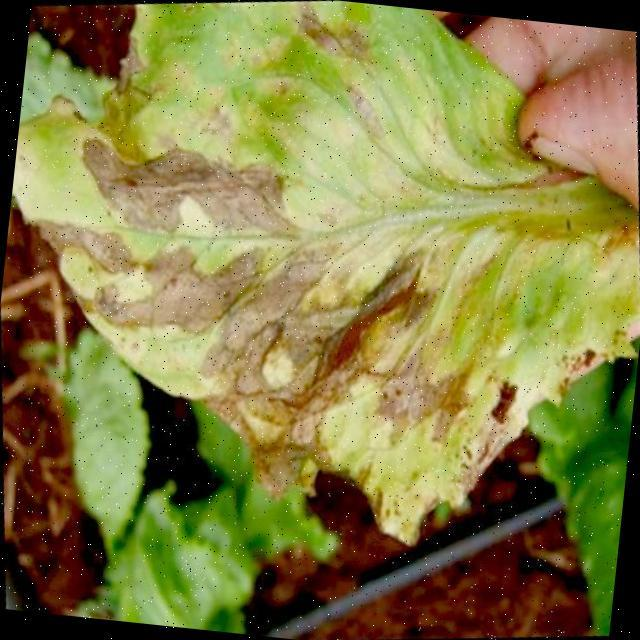Bacterial: (171, 129, 474, 444)
